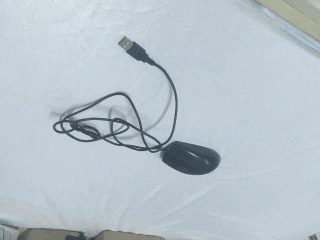mouse: (161, 139, 221, 176)
